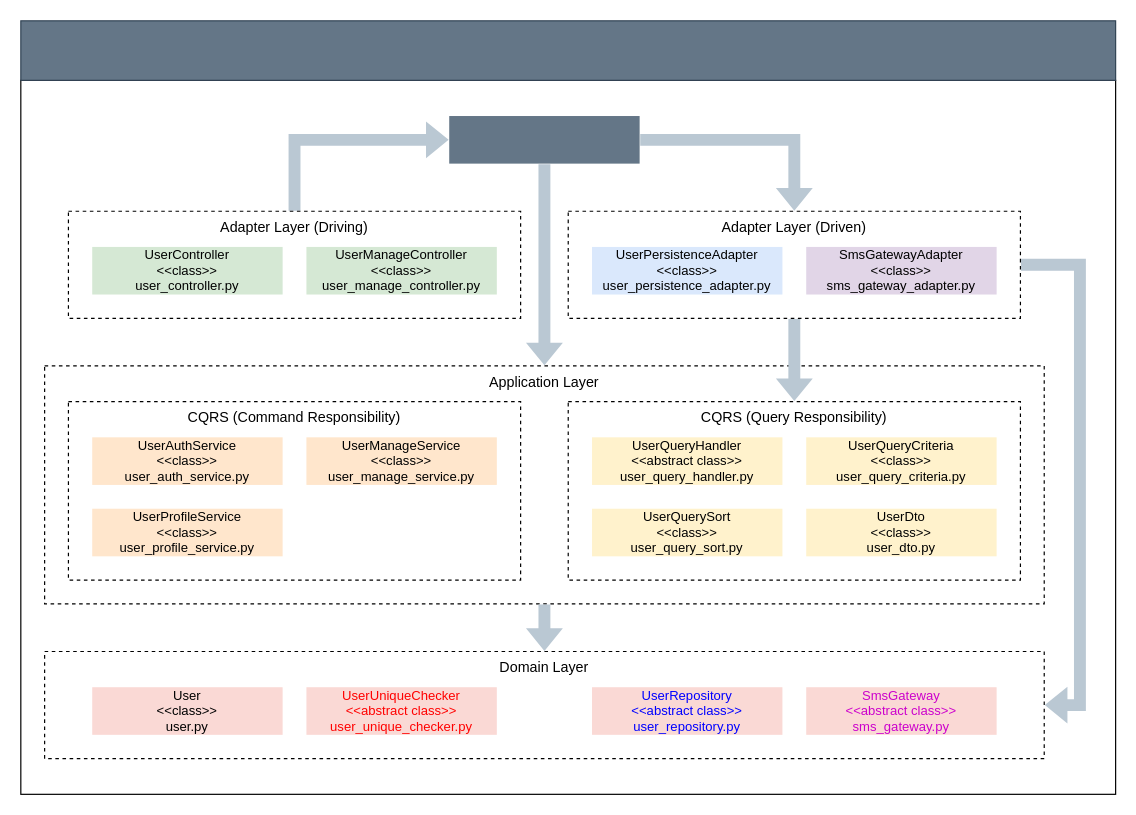
This 1136x815 diagram has some shape labels left out. Each missing label, with the centre of its shape:
IocContainer <<class>> ioc_container.py: the point at 544,139
main.py app = FastAPI(): the point at 568,50
